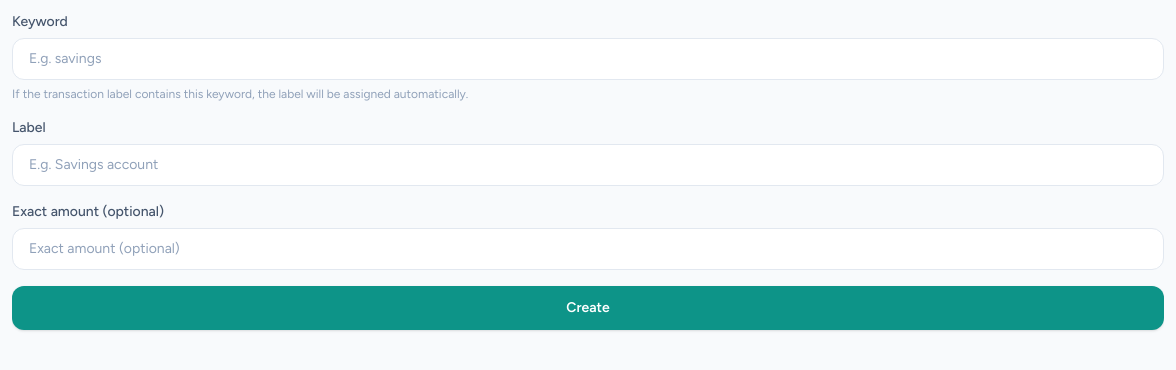
TransferLabelRuleForm › shows validation error when submitting with empty label
Type "savings" into the field labelled "Keyword" at coordinates (588, 59), box [12,38,1164,80]
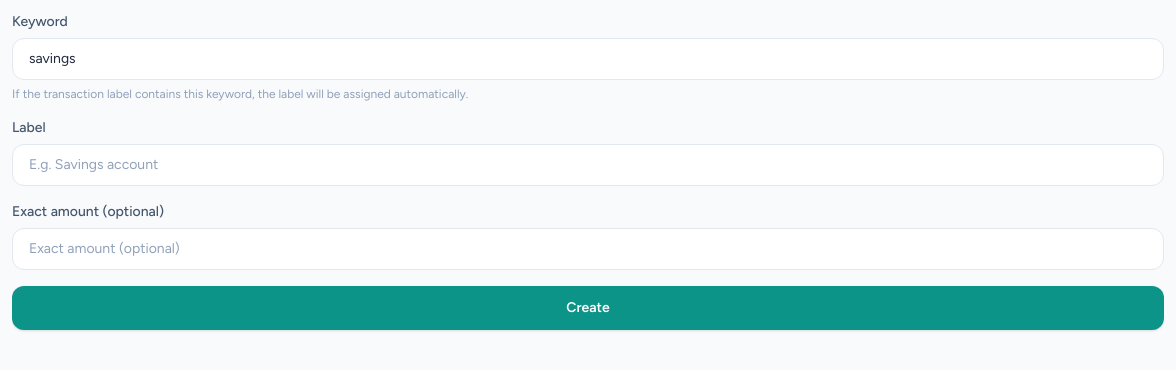
Click the button "Create" at coordinates (588, 308), box [12,286,1164,330]
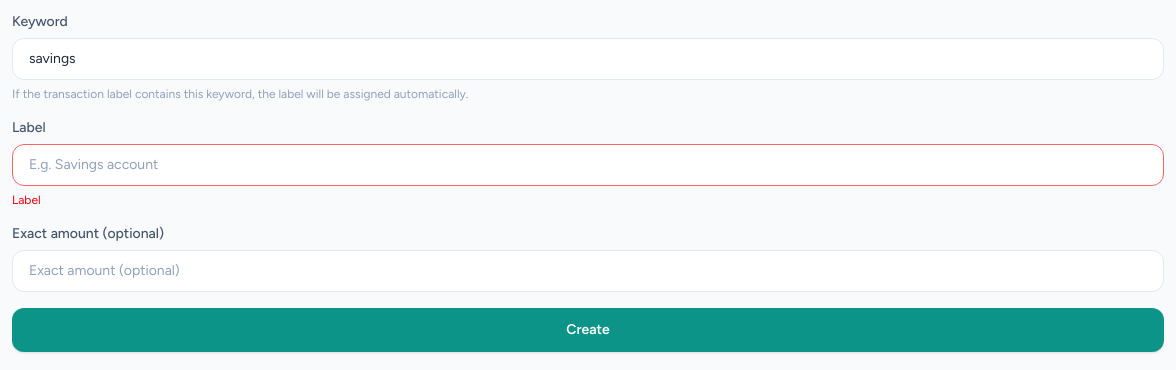
Check: the text "Label" is shown, box [12,193,41,207]
